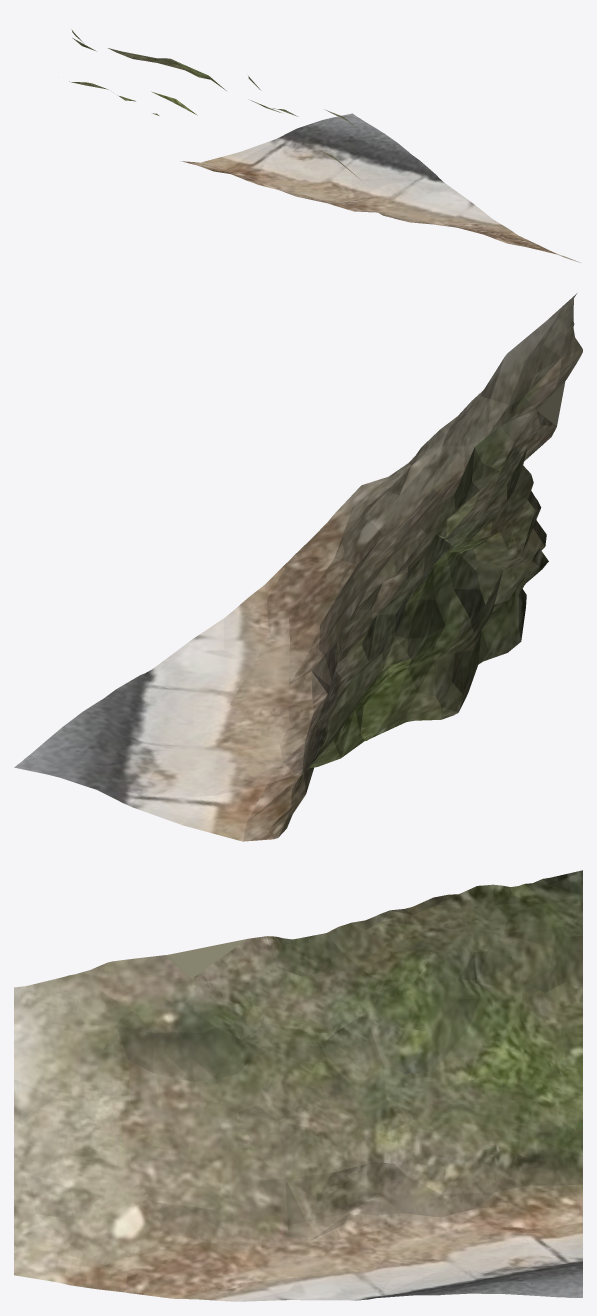
The picture shows the model from 3 angles, top to bottom: view 1: azimuth 30°, elevation 25°; view 2: azimuth 150°, elevation 25°; view 3: azimuth 270°, elevation 25°; orthographic projection. The views are drawn at different scales.
Size of the model in its own units: 2.5 by 1.37 by 2.95.
2 materials, 2 textured.
